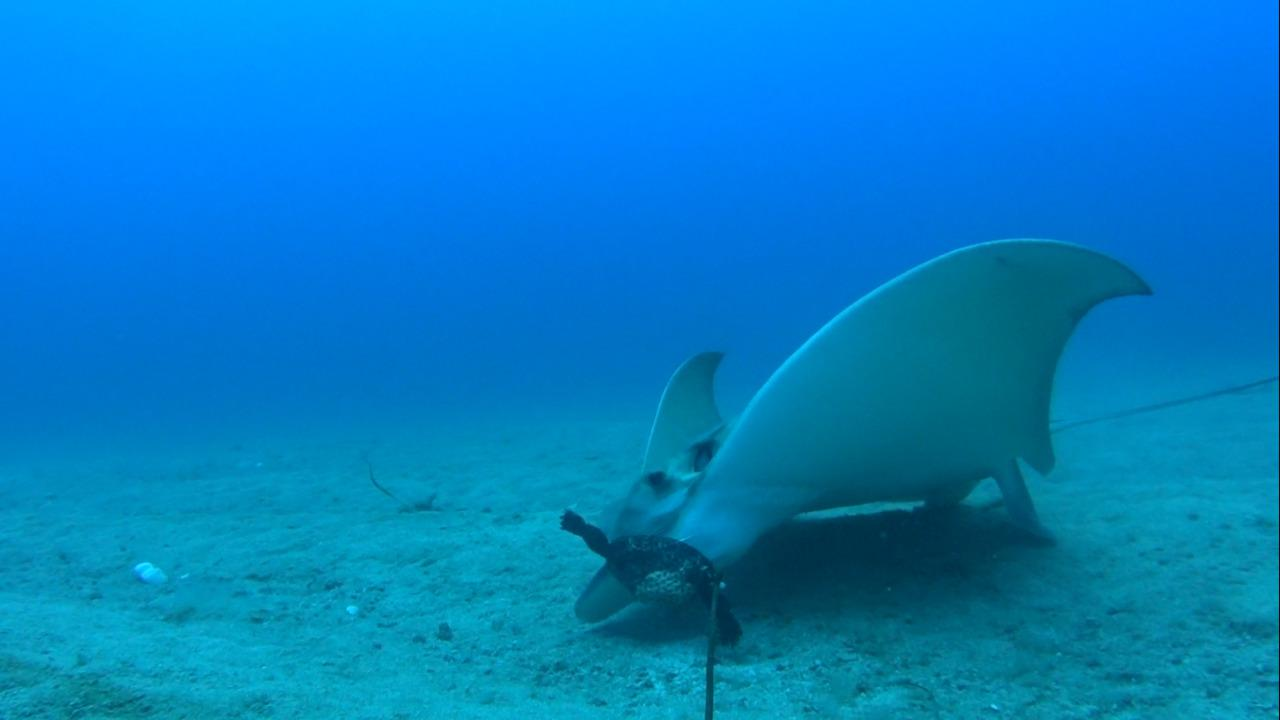myliobatis: (565, 234, 1279, 629)
